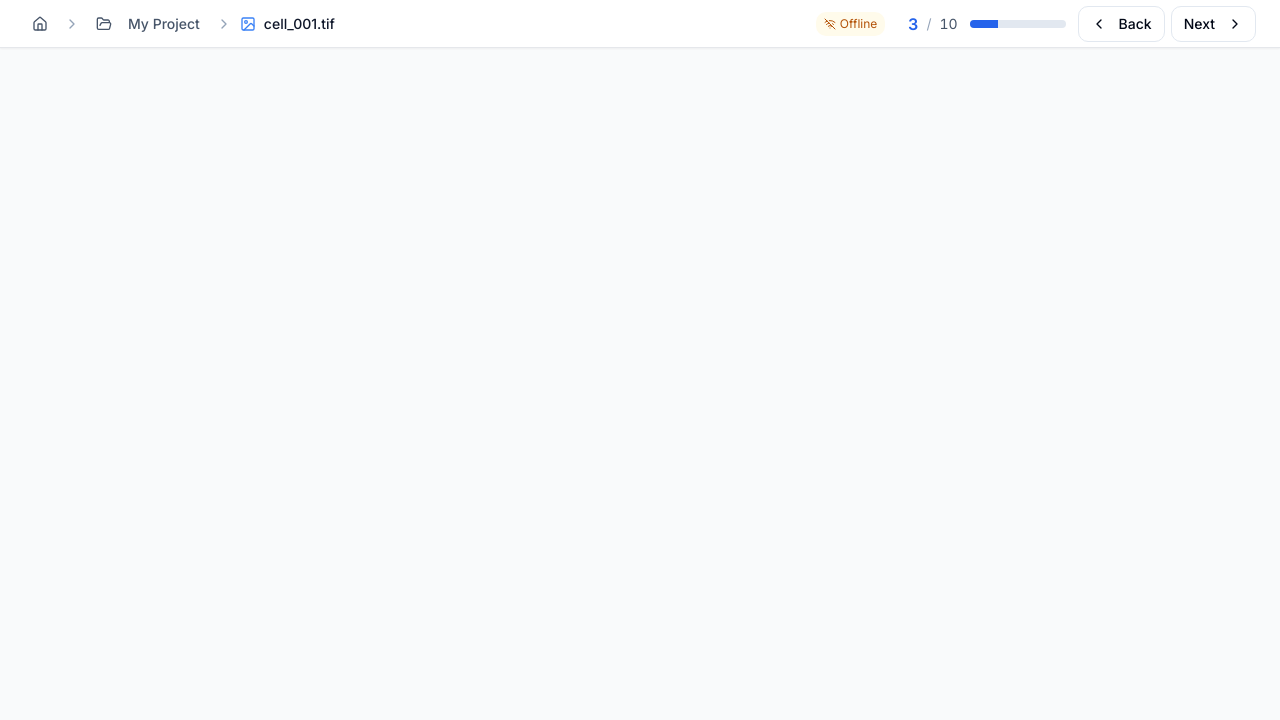
it: EditorHeader › unsaved changes prompt › keeps the prompt open and reports the failure when the save rejects
This screenshot has width=1280, height=720.
Click the button "My Project" at (148, 24), box [88,6,208,42]
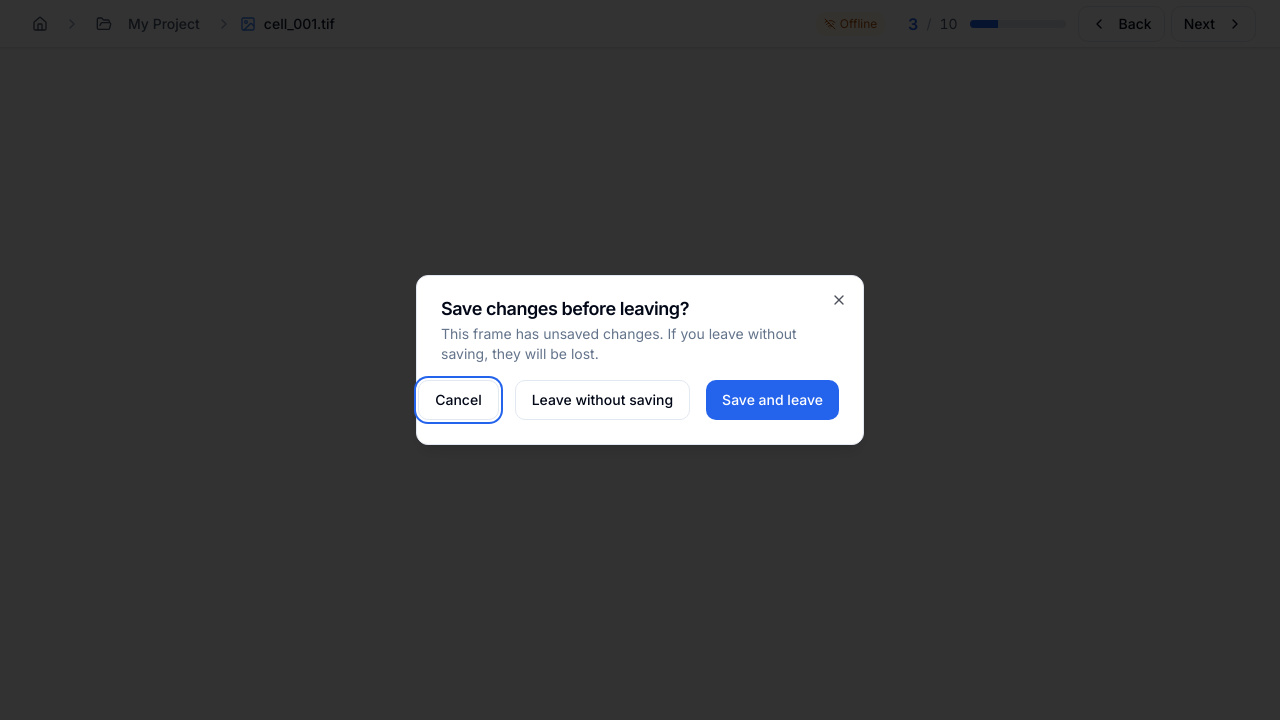
Click the button with test id "unsaved-changes-save" at (773, 400), box [706,380,839,420]
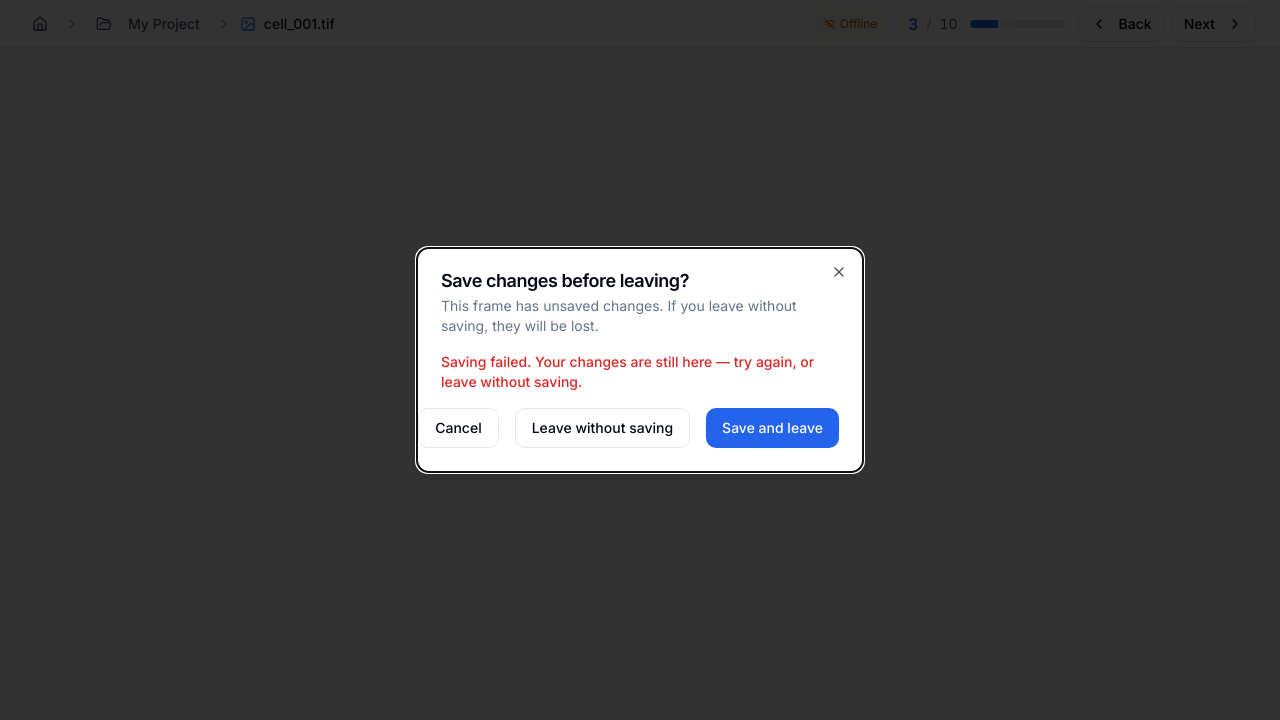
Expected: the button with test id "unsaved-changes-save" is enabled, [706,408,839,448]
Expected: the button with test id "unsaved-changes-discard" is shown, [515,408,690,448]
Expected: the message with test id "unsaved-changes-save-failed" is shown, [441,352,839,392]
